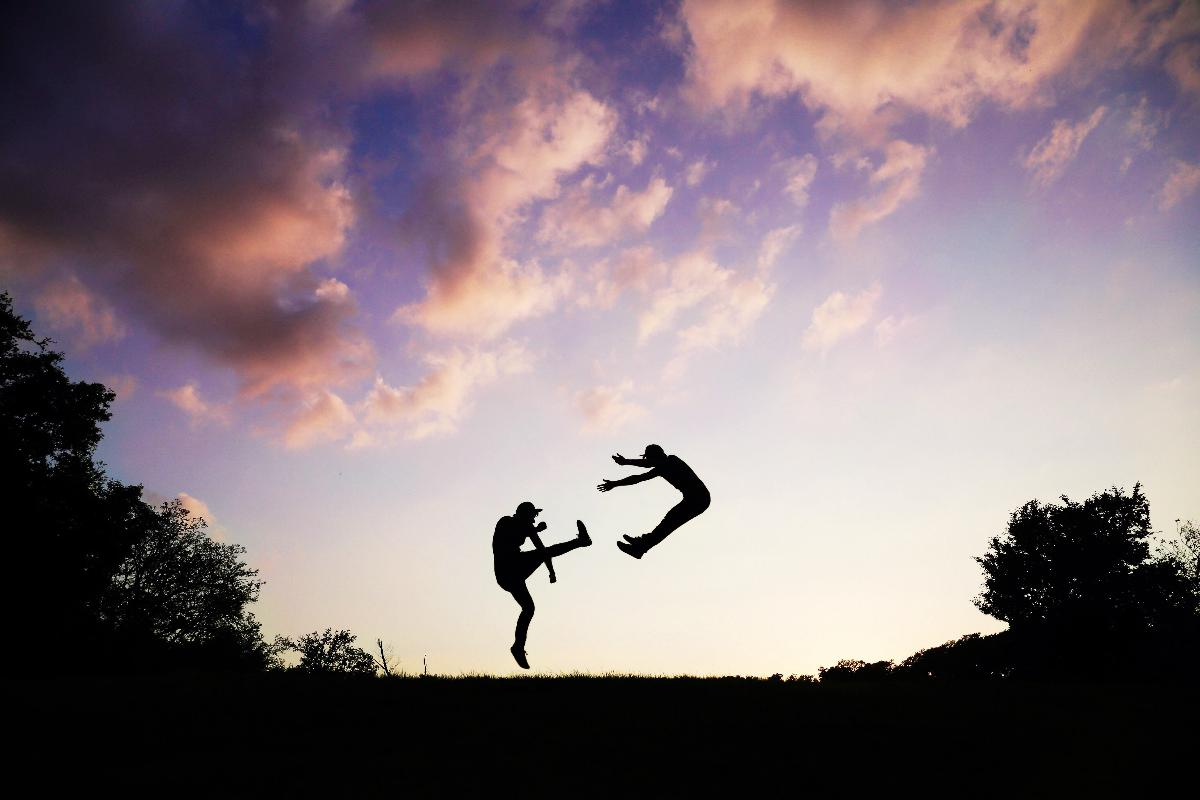Person: (492, 500, 595, 682), (598, 441, 715, 562)
